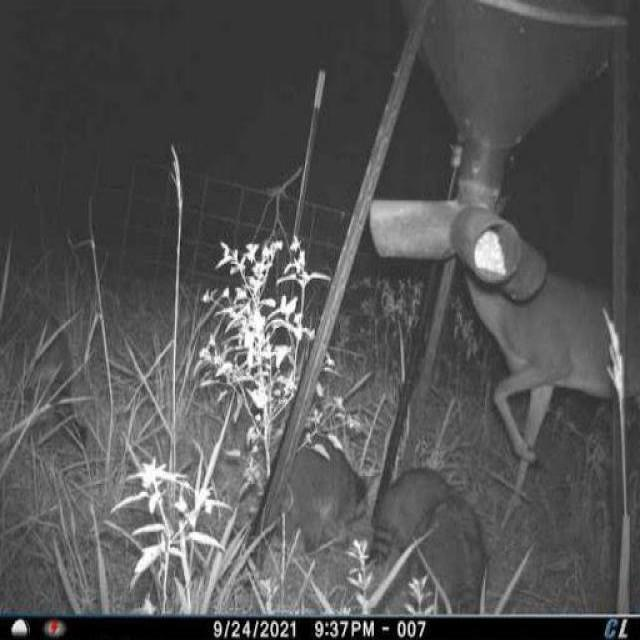deer: (400, 187, 628, 522)
